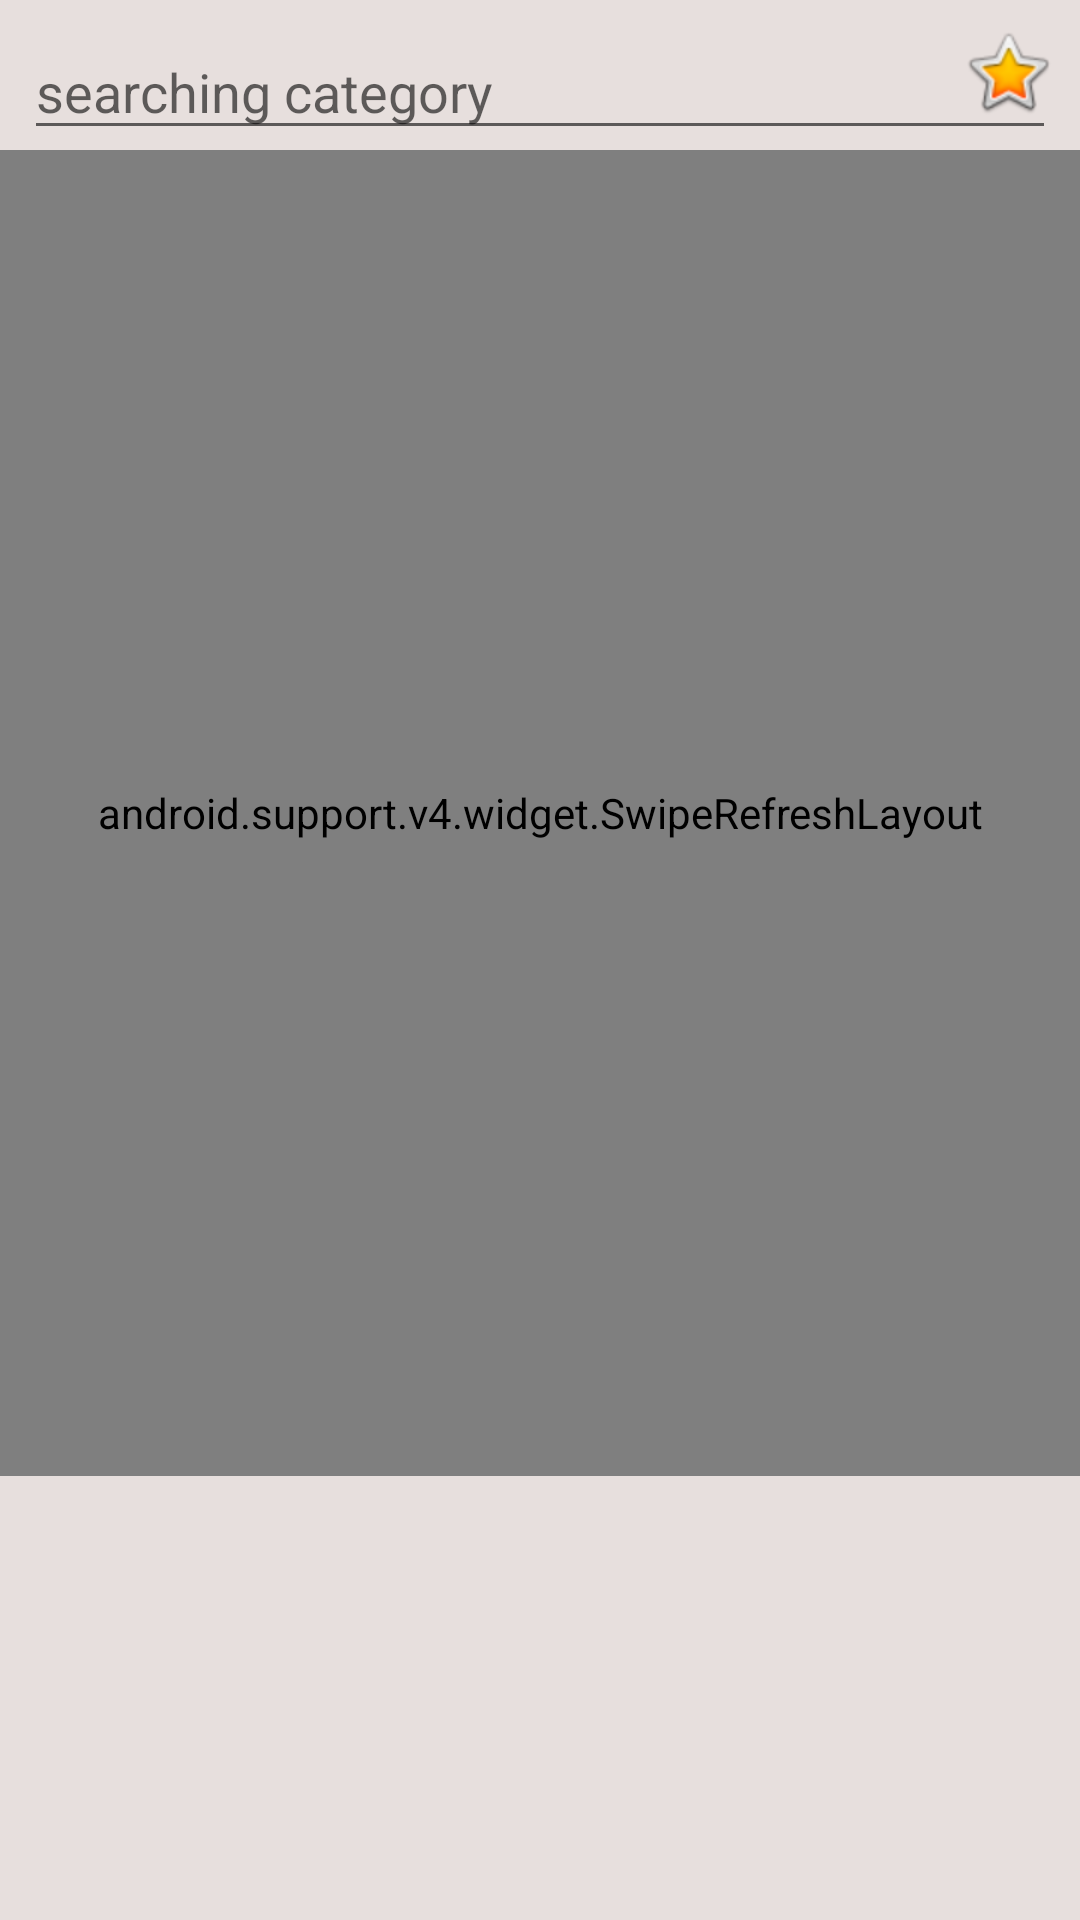

Named icons in this screenshot (1080×1920) and their centers, point (x, y):
star on: point (1009, 73)
